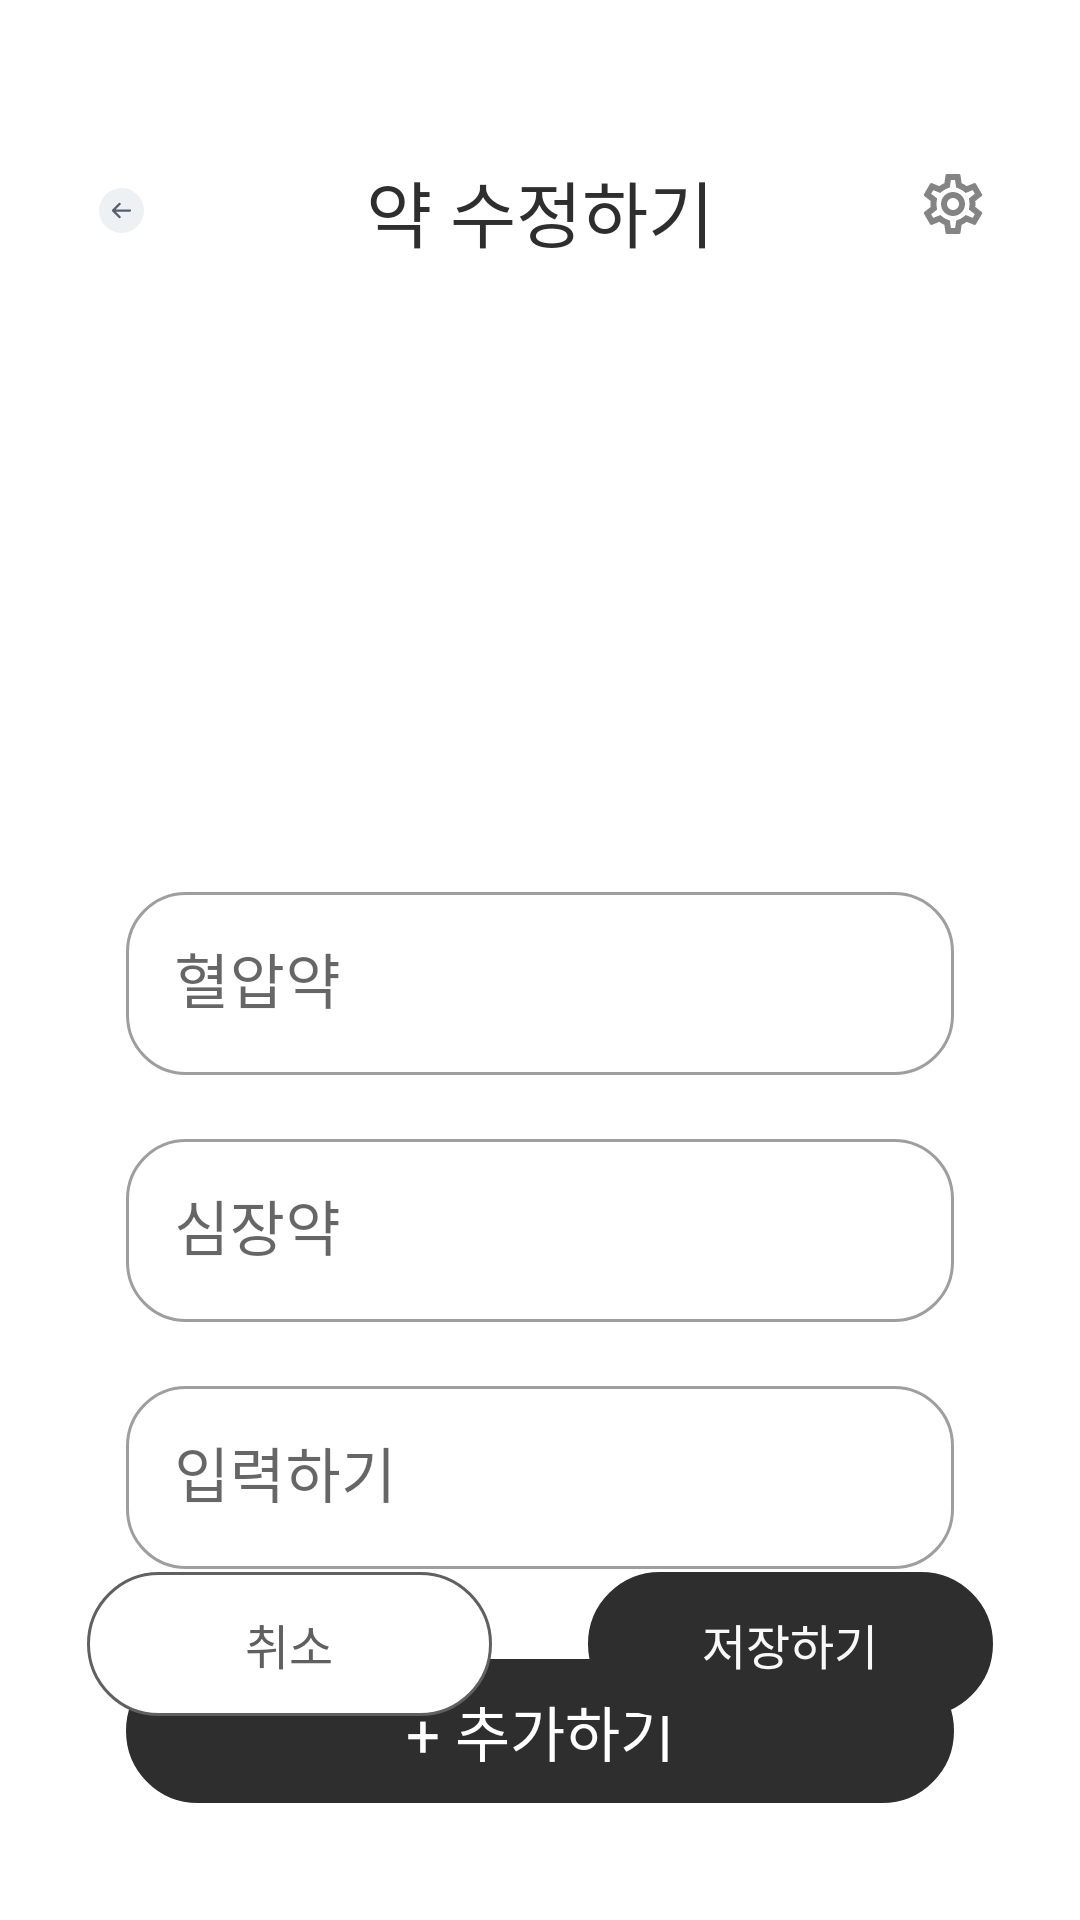

Icon bounding boxes for this 1080 x 1920 phone screenshot, format (x1, y1, x2, y2):
back: (99, 188, 144, 233)
setting: (924, 174, 982, 234)
